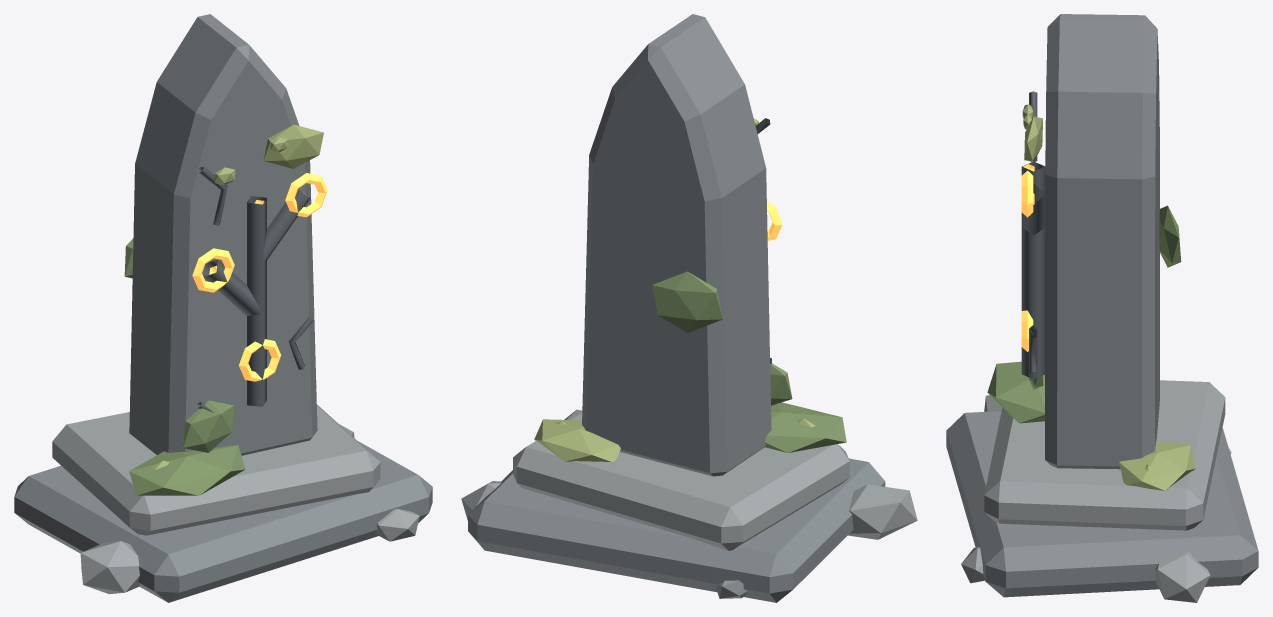
Rendered from gothic_waystone.glb.
3 renders of one model, left to right at view 1: azimuth 30°, elevation 25°; view 2: azimuth 150°, elevation 25°; view 3: azimuth 270°, elevation 25°, orthographic. The views are drawn at different scales.
Parts seen in each view (by area): view 1: Monolith, Base_Lower, Base_Upper, Moss_Base_Left, Rune_Inset_0, Pebble_A, Moss_Front_Low, Moss_Front_High, Rune_Inset_1, Rune_Inset_2, Pebble_C, Rune_Node_0 (+2 smaller); view 2: Monolith, Base_Lower, Base_Upper, Moss_Back, Moss_Base_Left, Pebble_A, Moss_Base_Right, Moss_Front_Low; view 3: Monolith, Base_Lower, Base_Upper, Rune_Inset_0, Moss_Base_Right, Moss_Base_Left, Pebble_B, Moss_Back, Rune_Inset_2, Moss_Front_High, Pebble_C, Rune_Node_1.
Part boxes in pixels (x1=…): Monolith: x1=129, y1=14, x2=317, y2=455; Base_Lower: x1=14, y1=441, x2=432, y2=602; Base_Upper: x1=52, y1=404, x2=380, y2=535; Moss_Base_Left: x1=129, y1=445, x2=245, y2=495; Rune_Inset_0: x1=247, y1=196, x2=266, y2=406; Pebble_A: x1=80, y1=541, x2=140, y2=594; Moss_Front_Low: x1=183, y1=400, x2=233, y2=452; Moss_Front_High: x1=263, y1=124, x2=323, y2=168; Rune_Inset_1: x1=203, y1=259, x2=262, y2=315; Rune_Inset_2: x1=263, y1=189, x2=310, y2=262; Pebble_C: x1=374, y1=508, x2=419, y2=541; Rune_Node_0: x1=192, y1=248, x2=234, y2=292; Monolith: x1=582, y1=14, x2=771, y2=476; Base_Lower: x1=468, y1=409, x2=885, y2=602; Base_Upper: x1=513, y1=413, x2=849, y2=550; Moss_Back: x1=652, y1=271, x2=722, y2=332; Moss_Base_Left: x1=764, y1=402, x2=846, y2=452; Pebble_A: x1=848, y1=484, x2=917, y2=539; Moss_Base_Right: x1=534, y1=419, x2=620, y2=461; Moss_Front_Low: x1=770, y1=363, x2=792, y2=405; Monolith: x1=1045, y1=14, x2=1159, y2=469; Base_Lower: x1=946, y1=411, x2=1258, y2=597; Base_Upper: x1=984, y1=380, x2=1225, y2=530; Rune_Inset_0: x1=1021, y1=162, x2=1045, y2=379; Moss_Base_Right: x1=1119, y1=440, x2=1195, y2=490; Moss_Base_Left: x1=987, y1=361, x2=1044, y2=423; Pebble_B: x1=1155, y1=550, x2=1210, y2=602; Moss_Back: x1=1159, y1=205, x2=1181, y2=267; Rune_Inset_2: x1=1021, y1=183, x2=1045, y2=235; Moss_Front_High: x1=1024, y1=116, x2=1042, y2=161; Pebble_C: x1=961, y1=547, x2=984, y2=583; Rune_Node_1: x1=1021, y1=170, x2=1033, y2=217.
Size of the model in its own units: 1.86 by 2.44 by 1.36.
